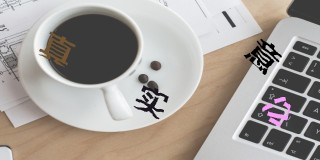实: (134, 85, 167, 119)
心: (262, 96, 291, 126)
意: (244, 38, 282, 75)
真: (38, 31, 75, 67)
